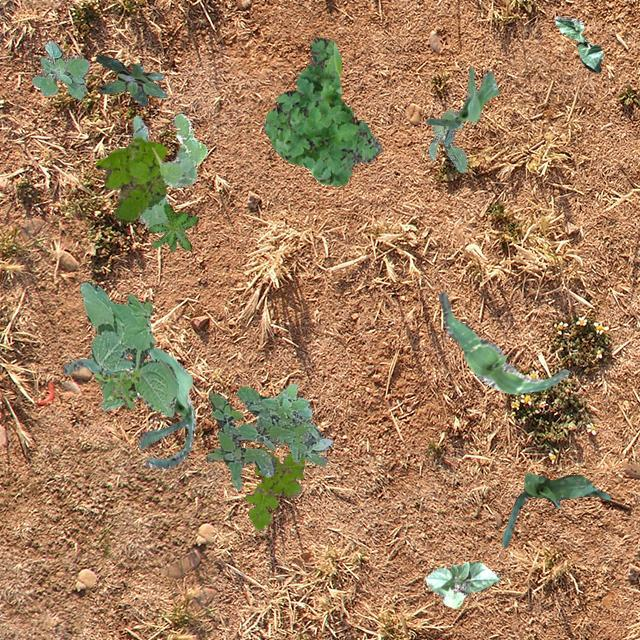crop: (62, 346, 195, 468), (438, 290, 568, 392), (501, 472, 609, 546), (424, 66, 498, 144), (424, 560, 498, 608), (553, 17, 601, 72)
weed: (262, 36, 382, 185), (78, 280, 178, 416), (205, 382, 332, 488), (132, 112, 206, 226), (94, 136, 166, 222), (244, 446, 304, 530), (96, 54, 166, 106), (31, 40, 88, 99), (428, 108, 466, 172), (148, 202, 198, 250), (92, 368, 140, 409)
